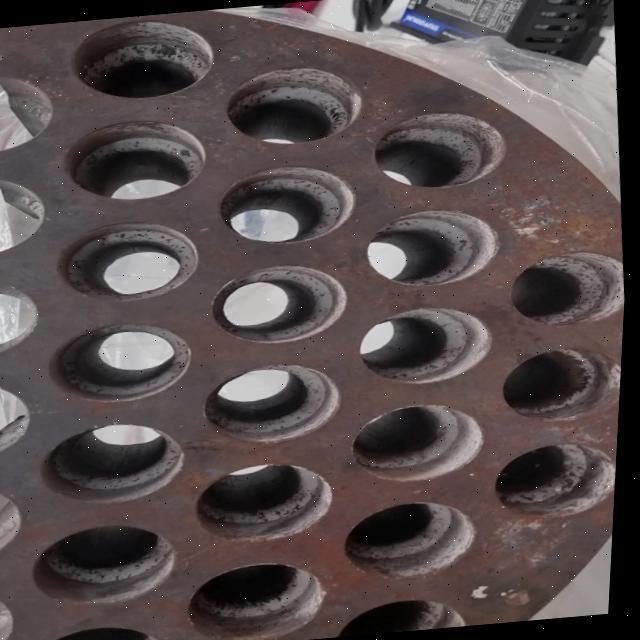Hole: (39, 417, 195, 508), (32, 519, 186, 611), (67, 13, 219, 103), (60, 115, 212, 205), (48, 316, 200, 406), (55, 216, 206, 306), (194, 457, 343, 547), (201, 358, 349, 448), (214, 158, 362, 248), (208, 258, 355, 348), (221, 60, 367, 148), (363, 203, 507, 290), (357, 301, 500, 388), (188, 556, 336, 640), (349, 398, 493, 484), (343, 496, 486, 582), (369, 106, 512, 192), (493, 437, 622, 522), (499, 342, 626, 426), (506, 246, 630, 328), (338, 594, 476, 638), (32, 618, 179, 640)
